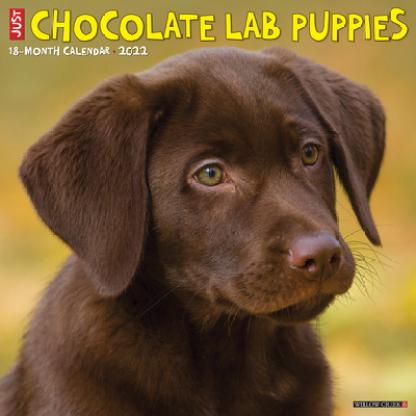dog: (8, 43, 384, 416)
